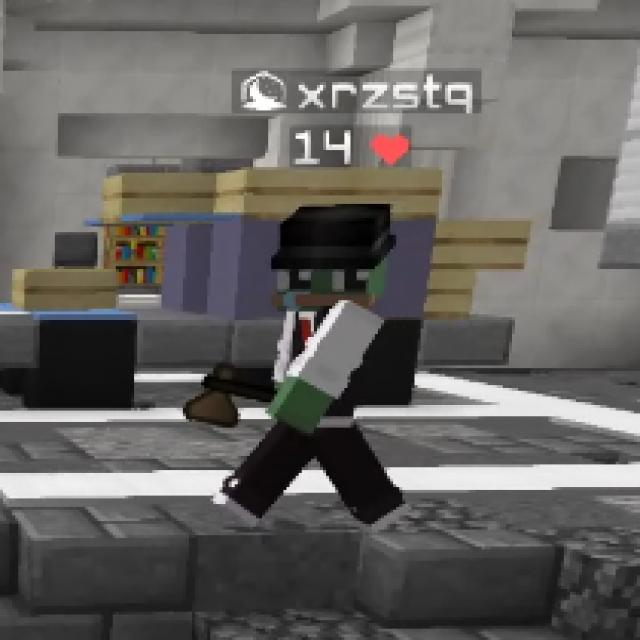Player: (214, 202, 432, 534)
